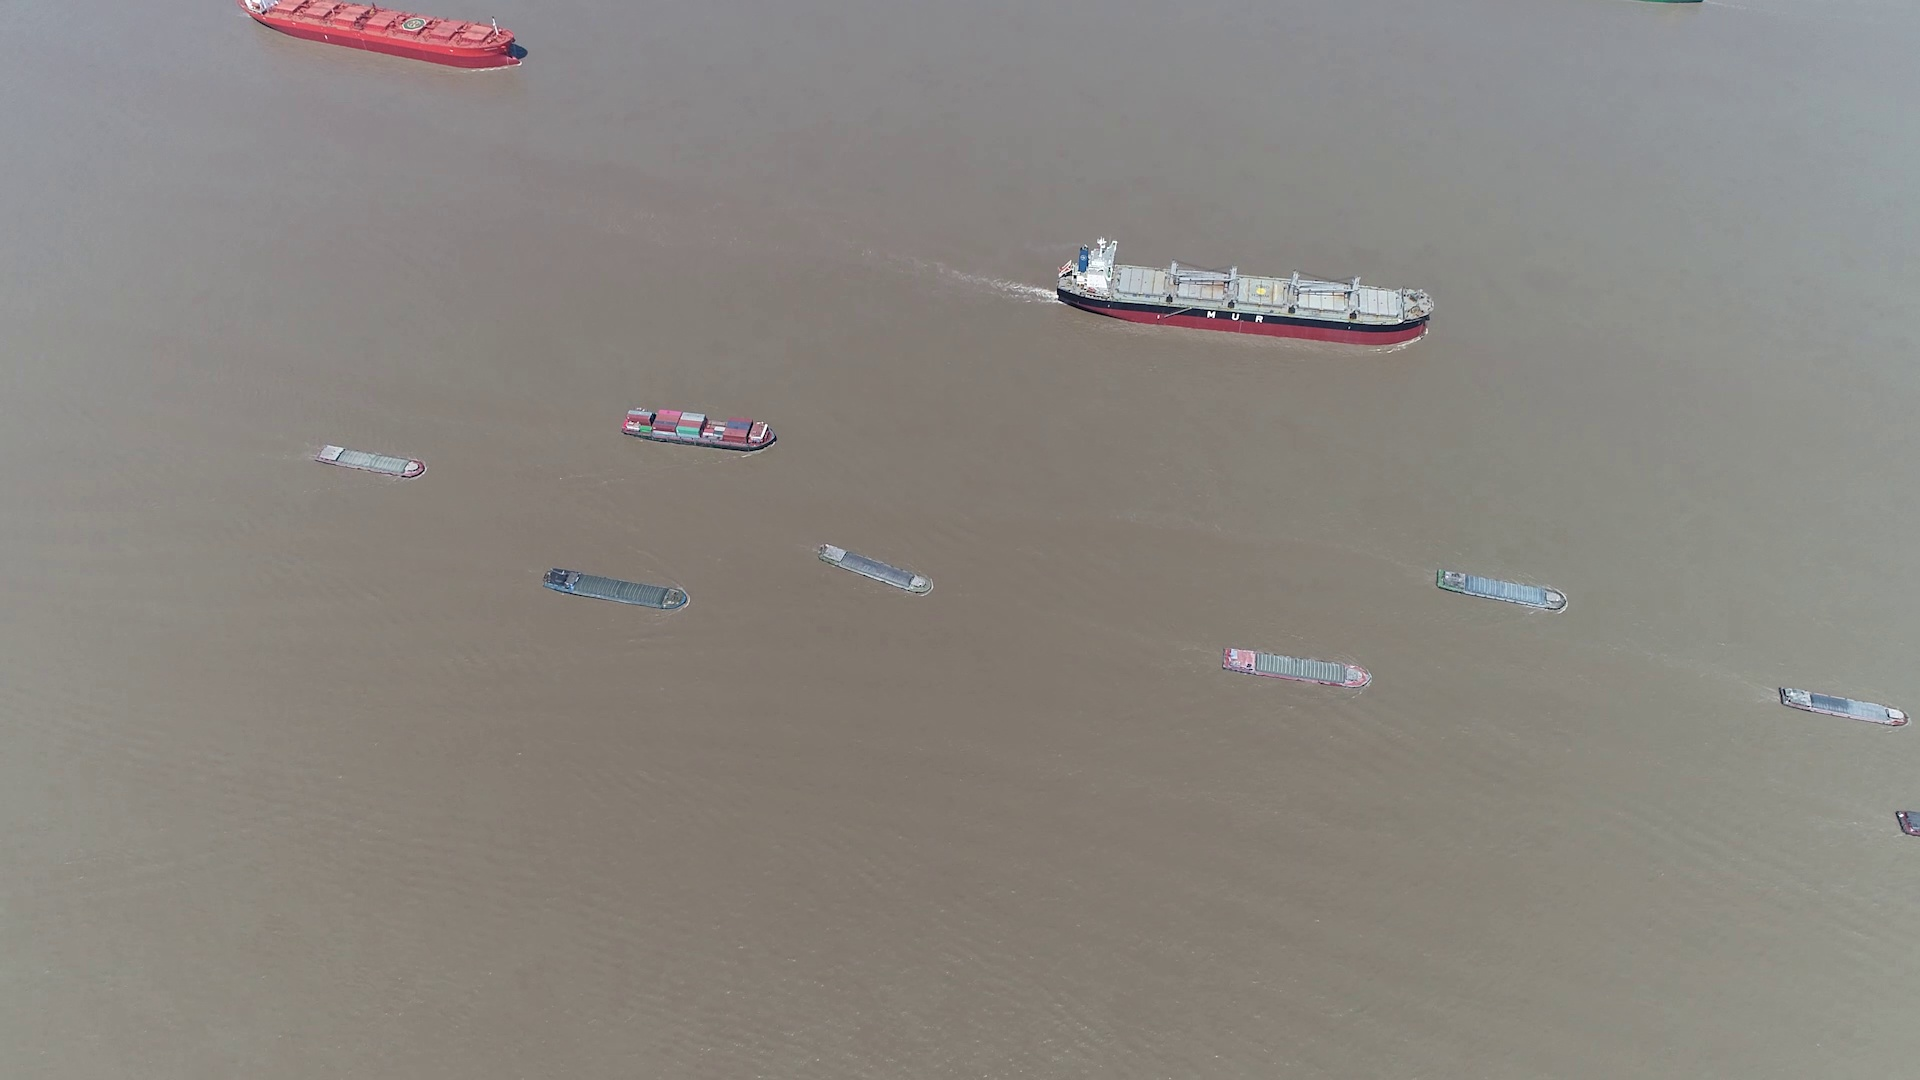ship: (1058, 241, 1437, 344), (244, 0, 524, 69), (622, 407, 779, 450), (1222, 646, 1374, 688), (542, 567, 688, 611), (820, 545, 934, 596), (1776, 686, 1909, 728), (1436, 568, 1567, 611), (313, 443, 426, 479), (1896, 811, 1920, 843), (1647, 0, 1702, 7)
